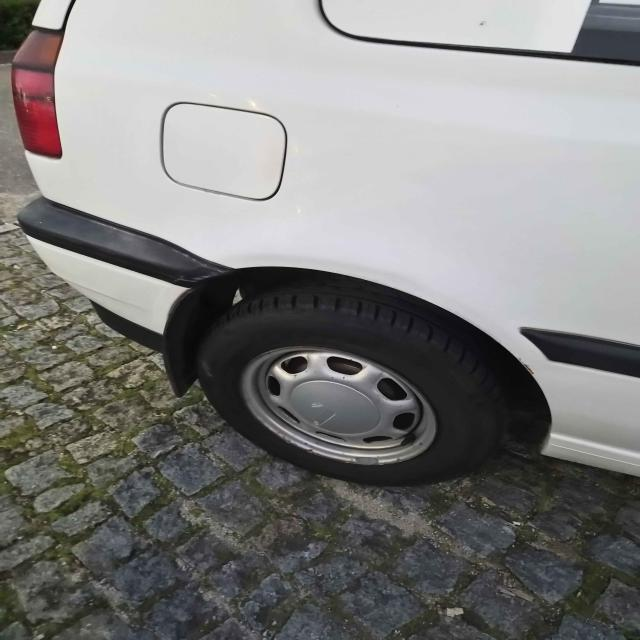jante: (237, 346, 440, 466)
roda: (193, 280, 513, 490)
